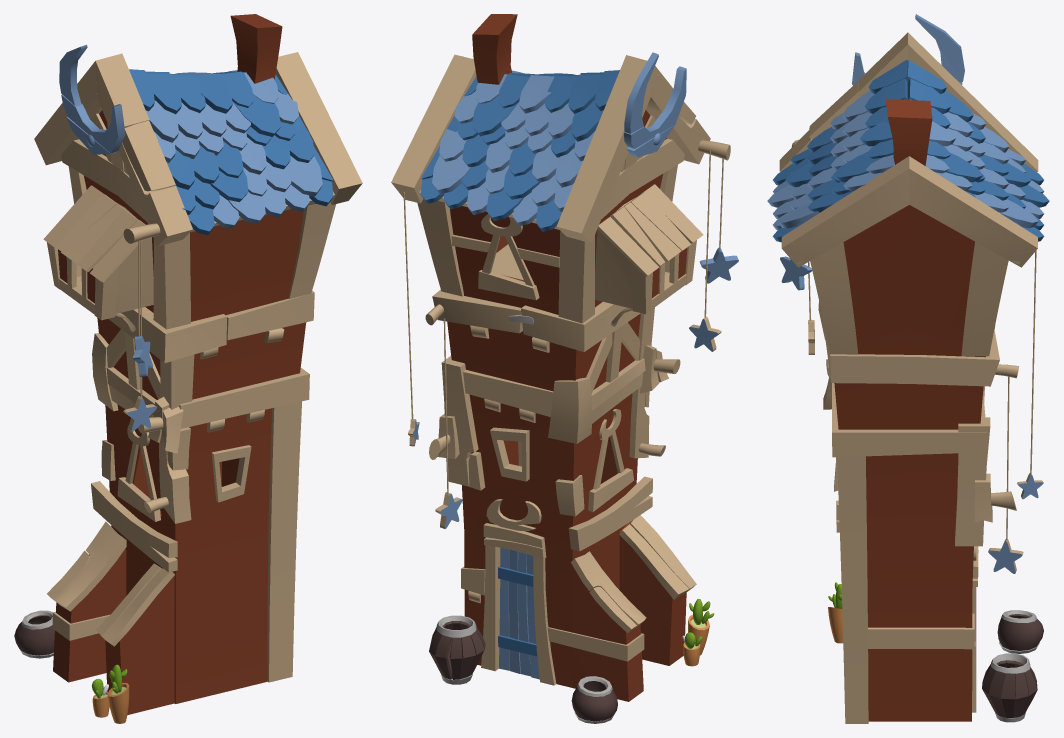
3 renders of one model, left to right at view 1: azimuth 30°, elevation 25°; view 2: azimuth 150°, elevation 25°; view 3: azimuth 270°, elevation 25°, orthographic. The views are drawn at different scales.
Visible parts, largest first — view 1: Box001, Box074, Box024, Box007, Box003, Box006, Box026, Box004, Box030, Circle001, Box068, Box009 (+48 smaller); view 2: Box001, Box025, Box003, Box007, Box006, Box027, Shape001, Box013, Circle001, Box028, Box002, Box069 (+56 smaller); view 3: Box001, Box074, Box026, Box027, Box003, Box004, Box046, Box073, Box013, Box011, Box024, Box025 (+19 smaller).
Boxes of the visible parts, <box> form: Box001: <box>84,110,306,703</box>; Box074: <box>267,401,301,682</box>; Box024: <box>95,53,192,246</box>; Box007: <box>105,567,174,714</box>; Box003: <box>108,290,314,362</box>; Box006: <box>53,526,126,682</box>; Box026: <box>275,52,362,204</box>; Box004: <box>179,367,309,428</box>; Box030: <box>153,233,190,329</box>; Circle001: <box>59,44,125,154</box>; Box068: <box>47,521,126,611</box>; Box009: <box>91,481,177,572</box>; Box001: <box>447,110,666,687</box>; Box025: <box>556,55,651,243</box>; Box003: <box>432,244,640,351</box>; Box007: <box>619,521,686,665</box>; Box006: <box>572,566,643,701</box>; Box027: <box>391,54,476,203</box>; Shape001: <box>499,547,539,679</box>; Box013: <box>441,356,485,490</box>; Circle001: <box>624,52,686,157</box>; Box028: <box>558,231,594,323</box>; Box002: <box>595,198,687,308</box>; Box069: <box>619,515,696,599</box>; Box001: <box>834,205,985,721</box>; Box074: <box>837,456,868,723</box>; Box026: <box>781,156,909,267</box>; Box027: <box>909,156,1037,267</box>; Box003: <box>818,301,999,386</box>; Box004: <box>832,383,986,457</box>; Box046: <box>961,242,1008,356</box>; Box073: <box>810,242,858,354</box>; Box013: <box>955,417,990,546</box>; Box011: <box>885,99,932,165</box>; Box024: <box>779,32,907,171</box>; Box025: <box>908,32,1038,171</box>.
Size of the model in its own units: 144 by 390 by 159.
